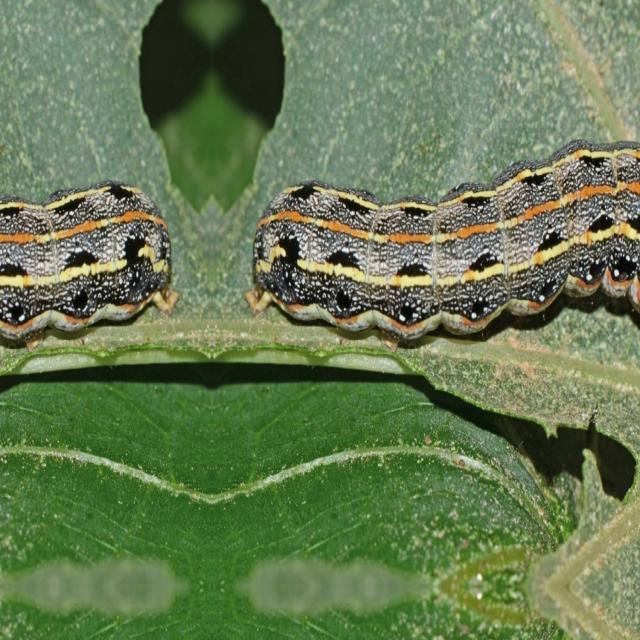armyworm: (245, 137, 639, 348), (0, 177, 178, 350)
